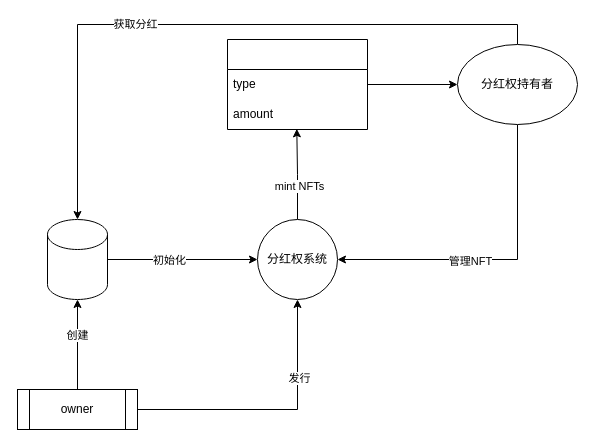
The diagram is 595 pixels wide and 447 high, and some of its shapes have lost their labels. Here are the shapes that lost their labels. From the top down, the box of each, then its label:
(226, 38, 368, 130): NFT
(46, 218, 108, 300): 分红账户
